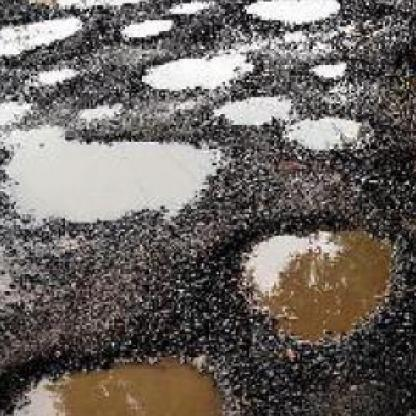pothole: (0, 128, 231, 233), (231, 218, 400, 344), (0, 345, 235, 416), (136, 47, 257, 88), (279, 113, 377, 155), (0, 13, 89, 57), (208, 91, 296, 125), (240, 0, 339, 24), (27, 0, 184, 9), (119, 16, 172, 40), (308, 56, 349, 80)
